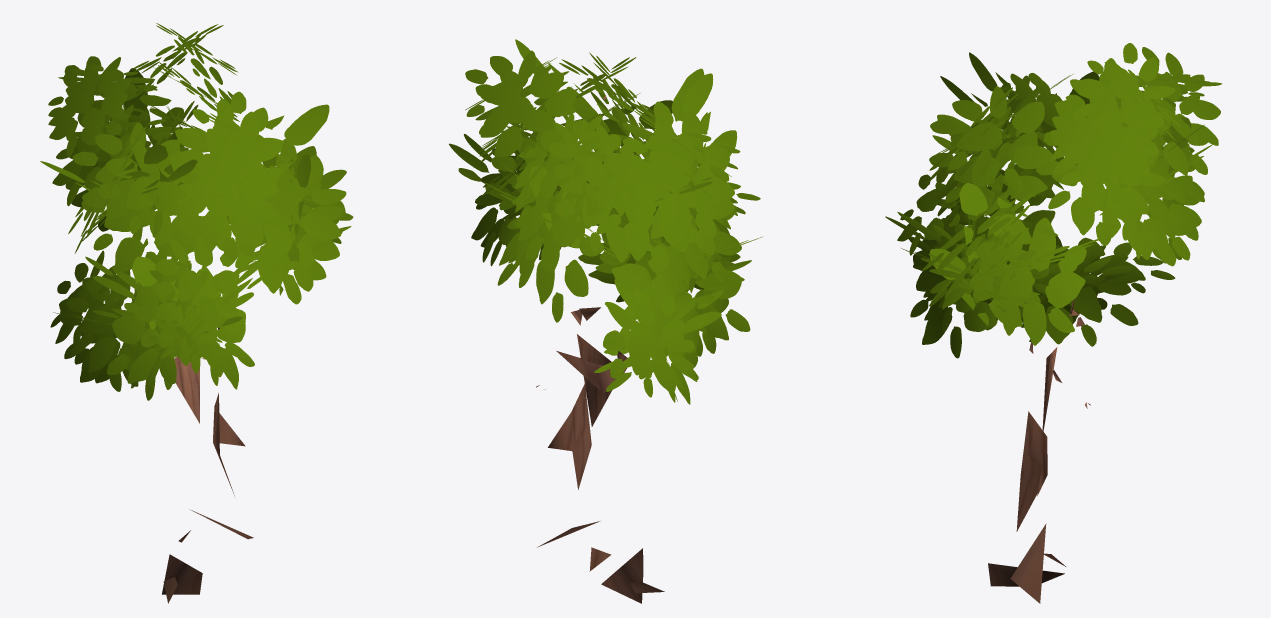
Rendered from jati-3-lod.glb.
3 renders of one model, left to right at view 1: azimuth 30°, elevation 25°; view 2: azimuth 150°, elevation 25°; view 3: azimuth 270°, elevation 25°, orthographic. The views are drawn at different scales.
Parts seen in each view (by area): view 1: CommonTree_5; view 2: CommonTree_5; view 3: CommonTree_5.
Boxes of the visible parts, x1,y1,x2,y2 form: CommonTree_5: [40, 23, 353, 603]; CommonTree_5: [449, 39, 762, 603]; CommonTree_5: [885, 43, 1221, 603].
Size of the model in its own units: 6.52 by 10.54 by 6.79.
Materials: 2 (2 with a texture image).
